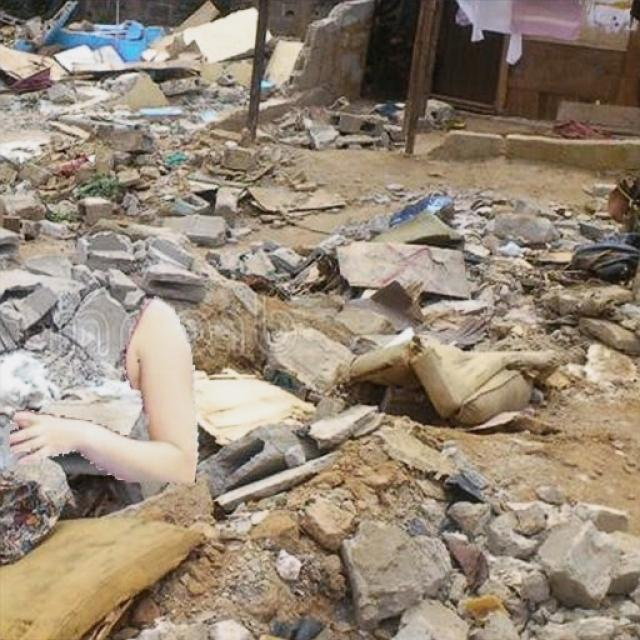Person in Rubble: (10, 296, 198, 482)
